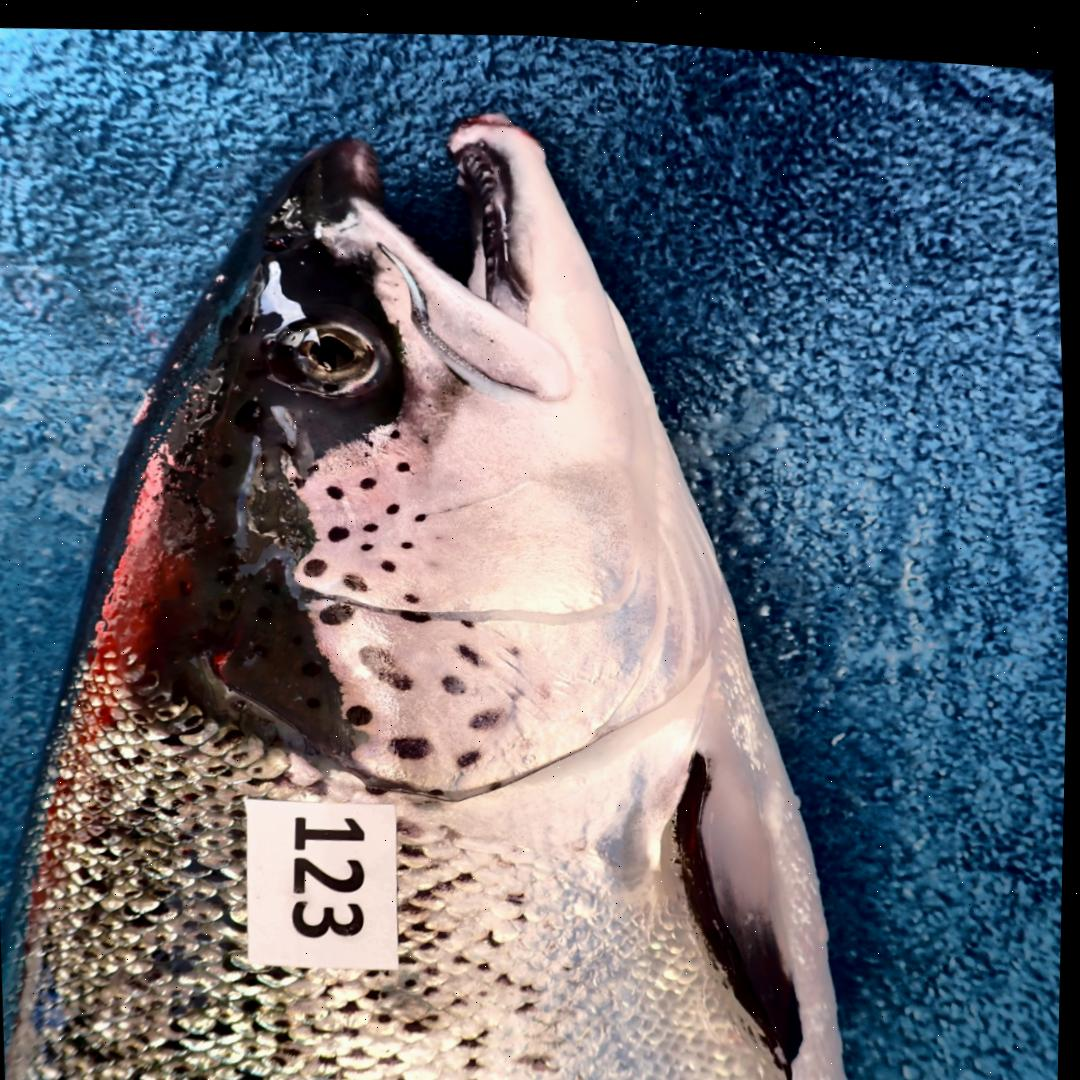spot: (362, 640, 415, 685), (391, 730, 434, 754), (321, 599, 355, 620), (471, 702, 502, 722), (457, 638, 483, 659), (347, 700, 373, 720), (443, 668, 467, 687), (458, 743, 483, 761), (401, 603, 433, 616), (305, 554, 328, 571), (345, 569, 368, 586), (535, 675, 553, 693), (329, 521, 349, 536), (328, 480, 345, 493), (359, 472, 376, 485), (490, 774, 506, 784), (382, 556, 396, 567), (406, 588, 421, 597), (363, 517, 378, 526), (507, 639, 522, 648), (309, 460, 320, 472), (294, 473, 307, 483), (462, 612, 476, 621), (414, 507, 428, 516), (429, 783, 446, 790), (389, 498, 400, 508), (399, 457, 410, 465), (389, 425, 400, 433), (401, 536, 413, 543), (361, 539, 373, 545), (420, 431, 430, 438), (367, 435, 374, 442)
